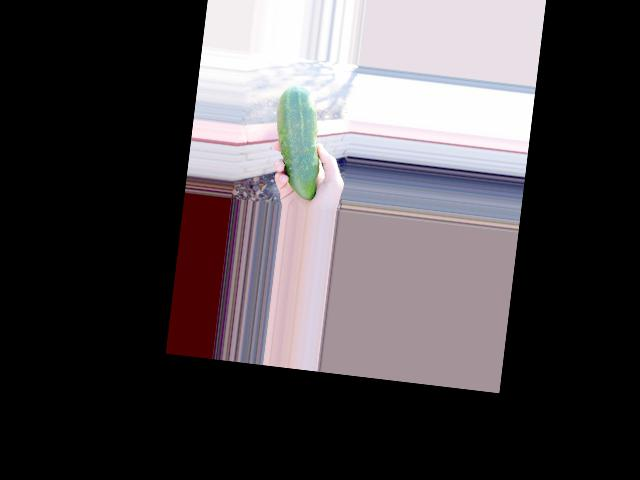cucumber: (266, 84, 328, 200)
